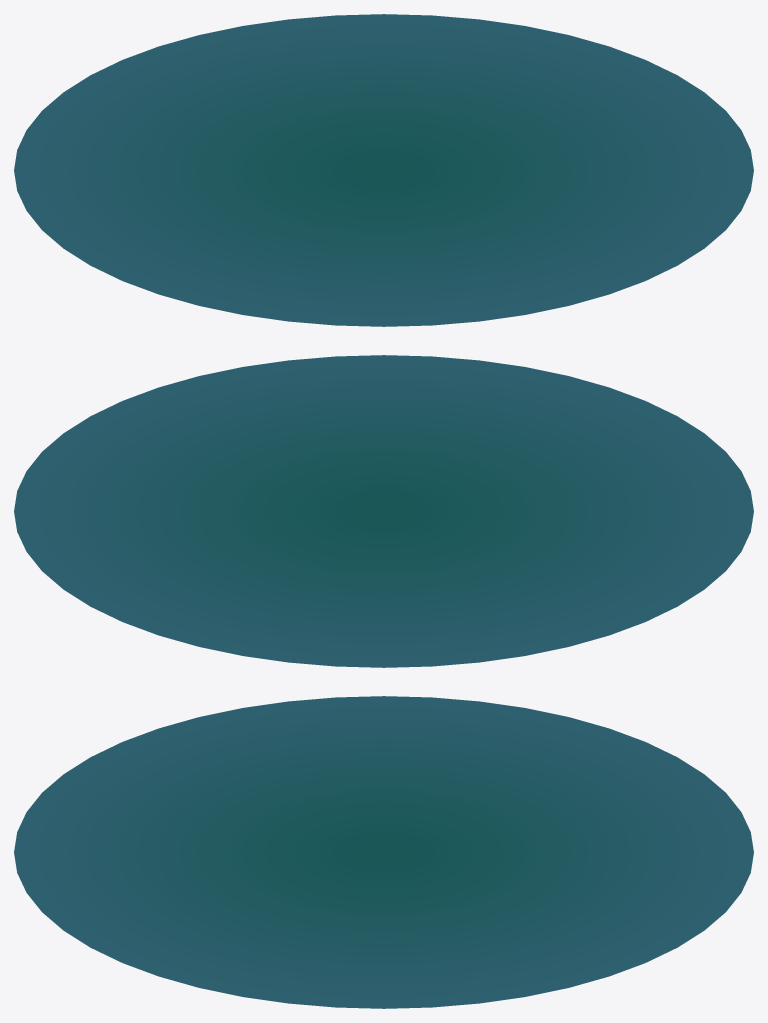
Rendered from transit_sea_fallback.glb.
3 views of the same model, one above another, from view 1: azimuth 30°, elevation 25°; view 2: azimuth 150°, elevation 25°; view 3: azimuth 270°, elevation 25° (orthographic).
Parts seen in each view (by area): view 1: transit_sea_fallback; view 2: transit_sea_fallback; view 3: transit_sea_fallback.
Boxes of the visible parts, x1,y1,x2,y2 form: transit_sea_fallback: (14, 14, 753, 326); transit_sea_fallback: (14, 355, 753, 667); transit_sea_fallback: (14, 696, 753, 1008).
Bounding box in the file's own units: 3400 × 0 × 3400.
